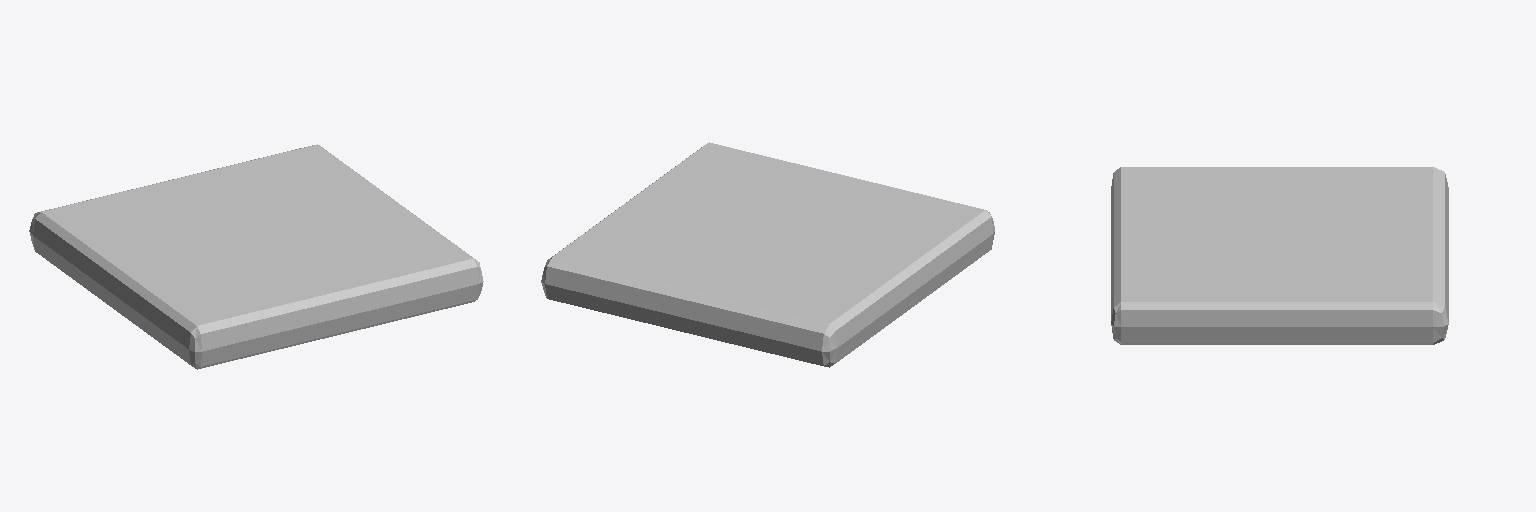
Rendered from button.obj.
3 views of the same model, side by side, from view 1: azimuth 30°, elevation 25°; view 2: azimuth 150°, elevation 25°; view 3: azimuth 270°, elevation 25° (orthographic).
Size of the model in its own units: 1.24 by 0.1762 by 1.24.